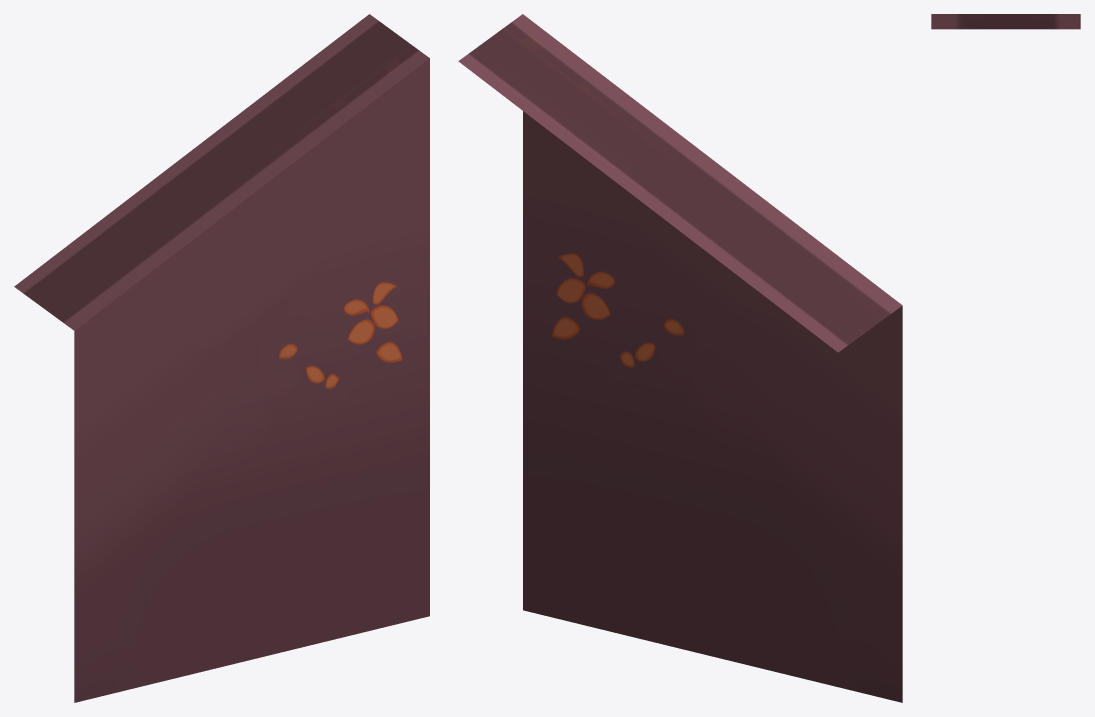
Rendered from desertWallSmallMedium_MESH.fbx.
3 views of the same model, side by side, from view 1: azimuth 30°, elevation 25°; view 2: azimuth 150°, elevation 25°; view 3: azimuth 270°, elevation 25° (orthographic). The views are drawn at different scales.
Visible parts, largest first — view 1: Desert_WallSMLeft; view 2: Desert_WallSMLeft; view 3: Desert_WallSMLeft.
Boxes of the visible parts, x1,y1,x2,y2 form: Desert_WallSMLeft: (14,14,429,702); Desert_WallSMLeft: (458,14,902,702); Desert_WallSMLeft: (931,14,1080,29).
Bounding box in the file's own units: 100 × 150 × 29.44.
Materials: 1 (1 with a texture image).
